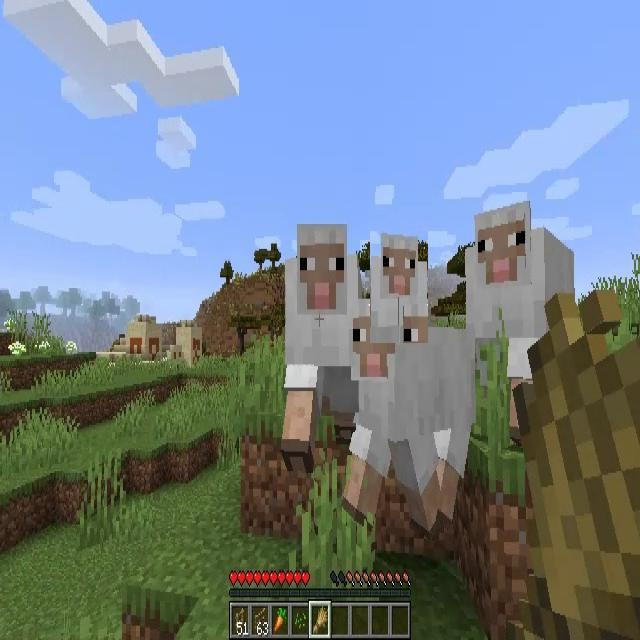sheep: (344, 304, 474, 526), (467, 204, 576, 447), (283, 224, 357, 448), (370, 231, 428, 343)
